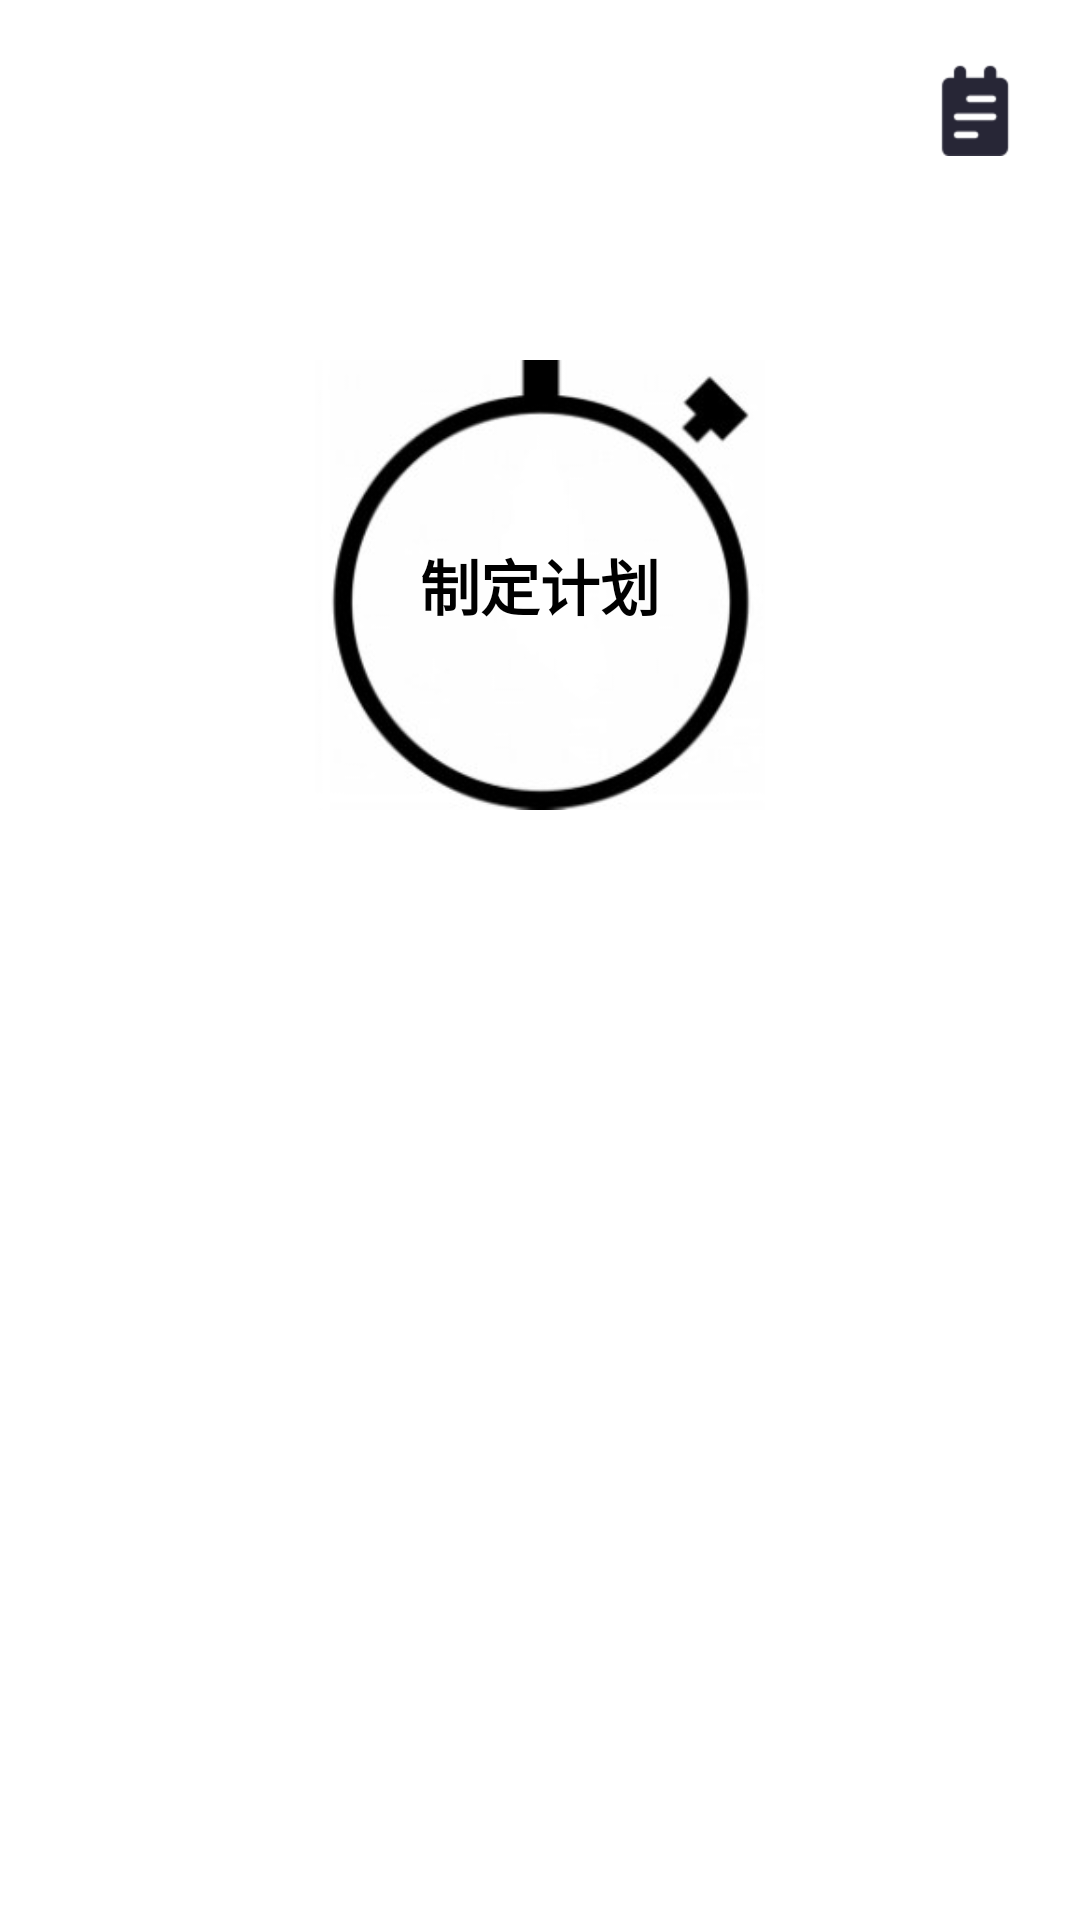

Icon bounding boxes for this 1080 x 1920 phone screenshot, format (x1, y1, x2, y2):
plan: (941, 65, 1009, 156)
